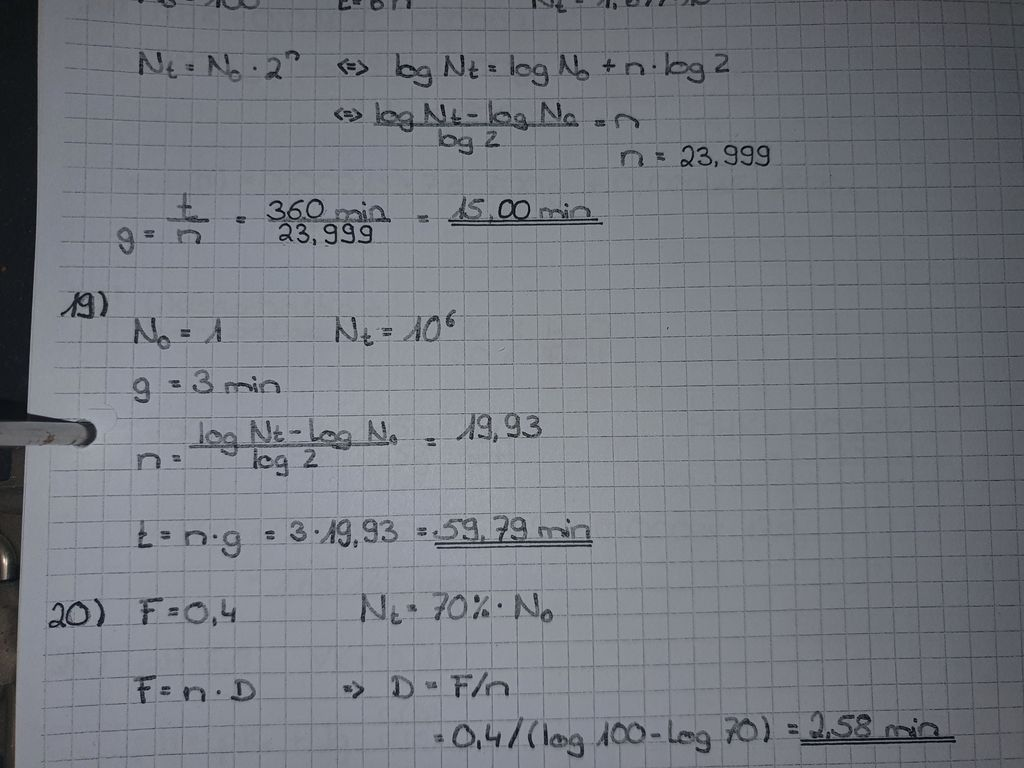equals: (412, 427, 441, 456), (405, 515, 433, 544), (257, 519, 285, 546), (782, 710, 804, 740), (372, 317, 397, 343), (585, 109, 609, 136), (411, 204, 436, 228), (152, 523, 179, 545), (138, 221, 163, 244), (227, 205, 250, 230), (165, 442, 189, 465), (179, 57, 203, 79), (401, 595, 423, 619), (166, 374, 188, 394), (165, 601, 185, 623), (172, 322, 195, 341), (654, 146, 672, 170), (484, 56, 502, 79), (429, 722, 445, 746), (157, 680, 177, 699), (423, 675, 440, 695)
equation: (97, 179, 611, 260), (414, 699, 959, 761), (123, 407, 561, 482), (129, 500, 619, 565), (378, 32, 739, 84), (372, 93, 644, 152), (347, 581, 582, 638), (125, 31, 313, 96), (604, 139, 790, 182), (319, 302, 472, 352), (122, 665, 263, 717), (371, 657, 528, 703), (124, 366, 290, 407), (123, 301, 235, 355), (125, 586, 247, 632)
fraction: (189, 413, 399, 475), (449, 713, 772, 748), (373, 96, 579, 147), (254, 189, 397, 248), (160, 185, 216, 245), (443, 665, 520, 699)
seperator: (597, 55, 622, 77)
term: (798, 704, 946, 751), (435, 507, 596, 550), (446, 190, 600, 228), (425, 587, 559, 630), (286, 509, 399, 553), (620, 41, 736, 82), (201, 41, 306, 83), (453, 410, 551, 451), (386, 45, 479, 85), (505, 45, 591, 85), (678, 138, 771, 174), (180, 513, 248, 559), (189, 368, 282, 401), (181, 673, 257, 707), (402, 308, 462, 349), (327, 308, 374, 352), (132, 46, 179, 87), (127, 311, 171, 354), (186, 594, 240, 629), (357, 589, 402, 628), (198, 310, 230, 347), (387, 663, 417, 702), (131, 593, 163, 628), (132, 671, 160, 711), (130, 513, 157, 552), (613, 98, 641, 135), (110, 219, 138, 256), (127, 371, 160, 402), (616, 144, 648, 175), (131, 443, 160, 472)
